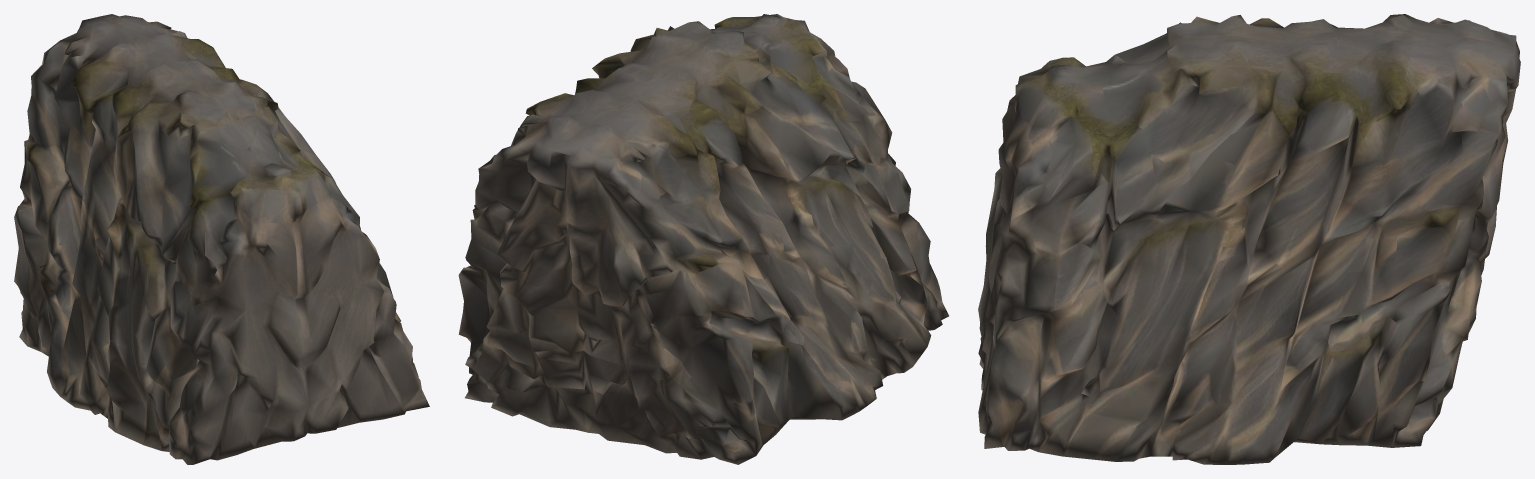
File: kf-rock-b.glb
The picture shows the model from 3 angles, left to right: view 1: azimuth 30°, elevation 25°; view 2: azimuth 150°, elevation 25°; view 3: azimuth 270°, elevation 25°; orthographic projection. The views are drawn at different scales.
Parts seen in each view (by area): view 1: Supplied kf-rock-b; view 2: Supplied kf-rock-b; view 3: Supplied kf-rock-b.
Part boxes in pixels (x1,y1,x2,y2): Supplied kf-rock-b: [14, 14, 429, 464]; Supplied kf-rock-b: [458, 14, 948, 464]; Supplied kf-rock-b: [978, 14, 1520, 464].
Bounding box in the file's own units: 0.7818 × 0.7031 × 1.
1 material, 1 textured.
